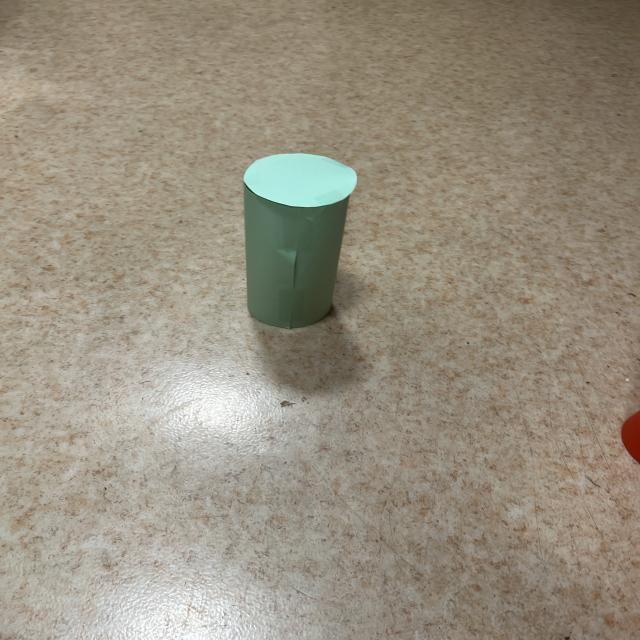meta: (243, 154, 357, 329)
